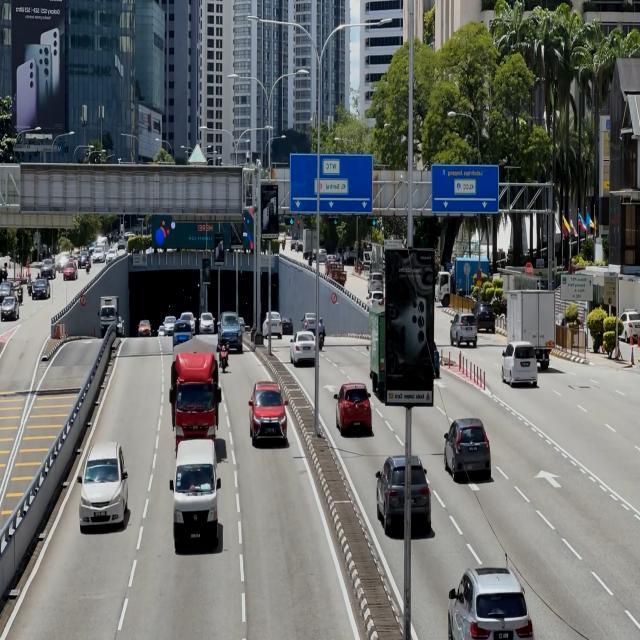Vehicle: (167, 338, 224, 448), (446, 569, 534, 640), (78, 442, 134, 536), (172, 449, 220, 554), (374, 454, 432, 538), (507, 287, 555, 358), (247, 376, 290, 448), (443, 416, 489, 480), (333, 376, 372, 442), (499, 342, 536, 389), (448, 312, 478, 351), (218, 309, 244, 353), (290, 326, 317, 366)
